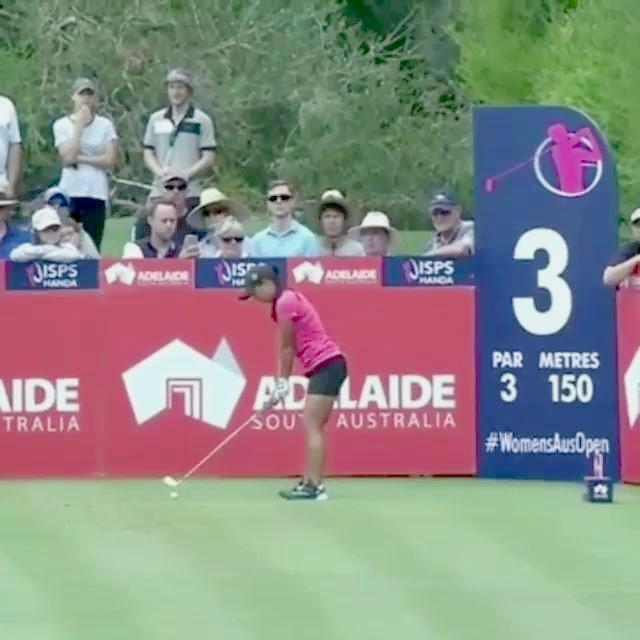golf ball: (170, 492, 180, 499)
golf club-handle: (164, 407, 263, 486)
golf club-head: (164, 476, 178, 487)
